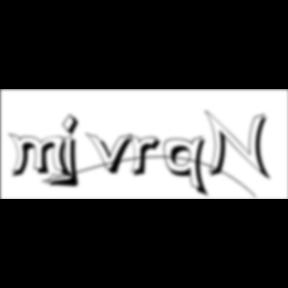N: (205, 109, 275, 183)
j: (60, 113, 86, 191)
m: (8, 132, 76, 181)
q: (164, 135, 212, 200)
r: (129, 134, 167, 180)
v: (86, 131, 140, 177)
